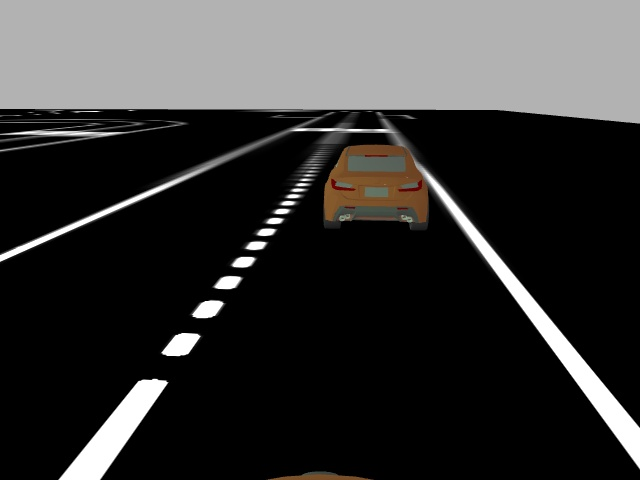obstacle_car: (320, 143, 431, 232)
